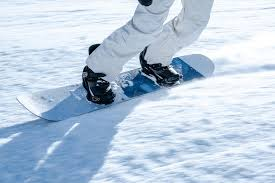snowboard: (14, 49, 215, 121)
